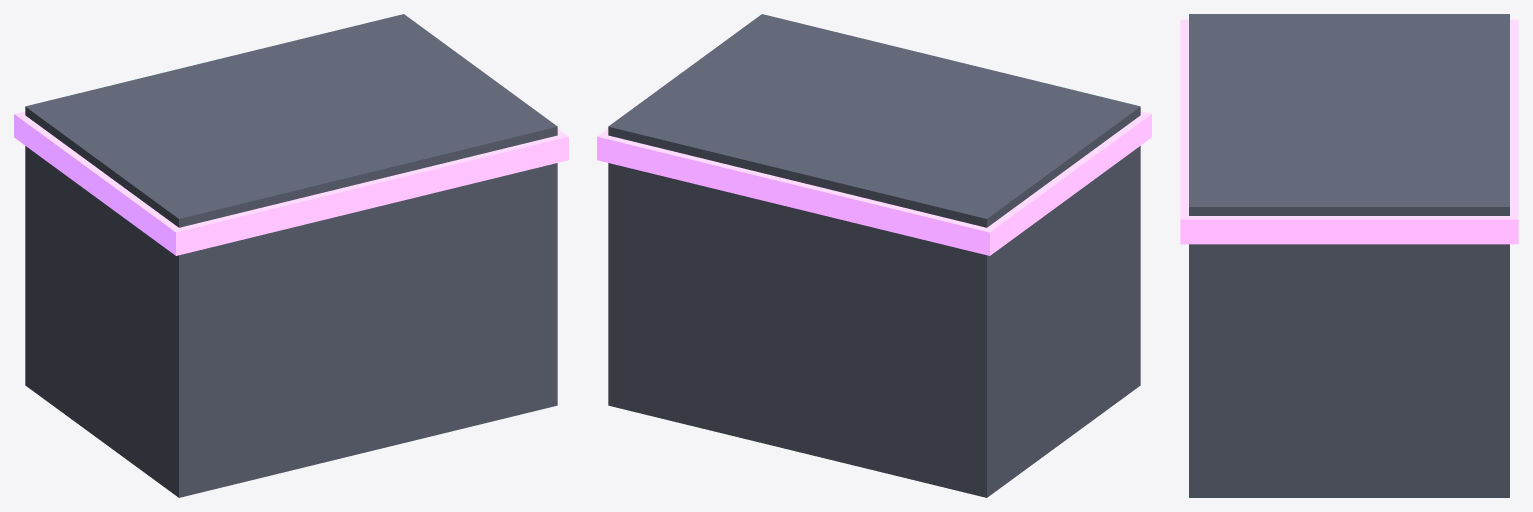
File: tactical_crate.glb
The picture shows the model from 3 angles, left to right: view 1: azimuth 30°, elevation 25°; view 2: azimuth 150°, elevation 25°; view 3: azimuth 270°, elevation 25°; orthographic projection. The views are drawn at different scales.
Parts seen in each view (by area): view 1: Crate; view 2: Crate; view 3: Crate.
Boxes of the visible parts, box(x1,y1,x2,y2) form: Crate: box(14, 14, 568, 497); Crate: box(597, 14, 1151, 497); Crate: box(1180, 14, 1518, 497).
Size of the model in its own units: 1.4 by 0.95 by 1.
